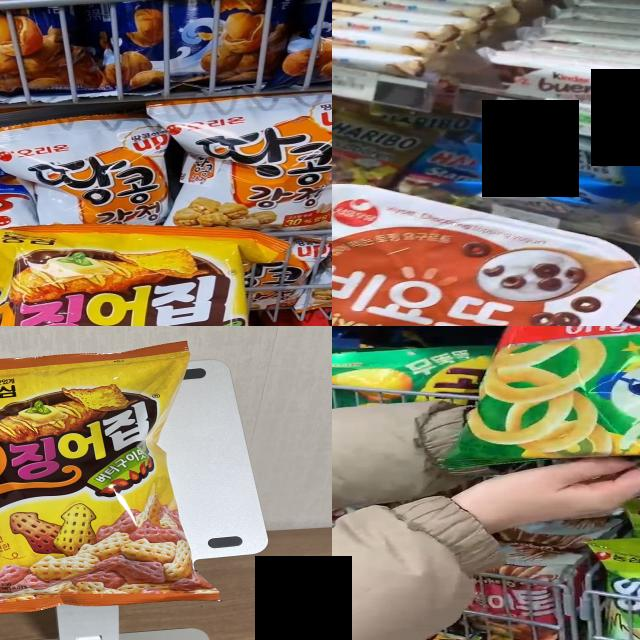bYott: (332, 183, 640, 326)
onionRing: (491, 326, 640, 471)
ozingZip: (0, 353, 188, 601), (0, 234, 244, 326)
